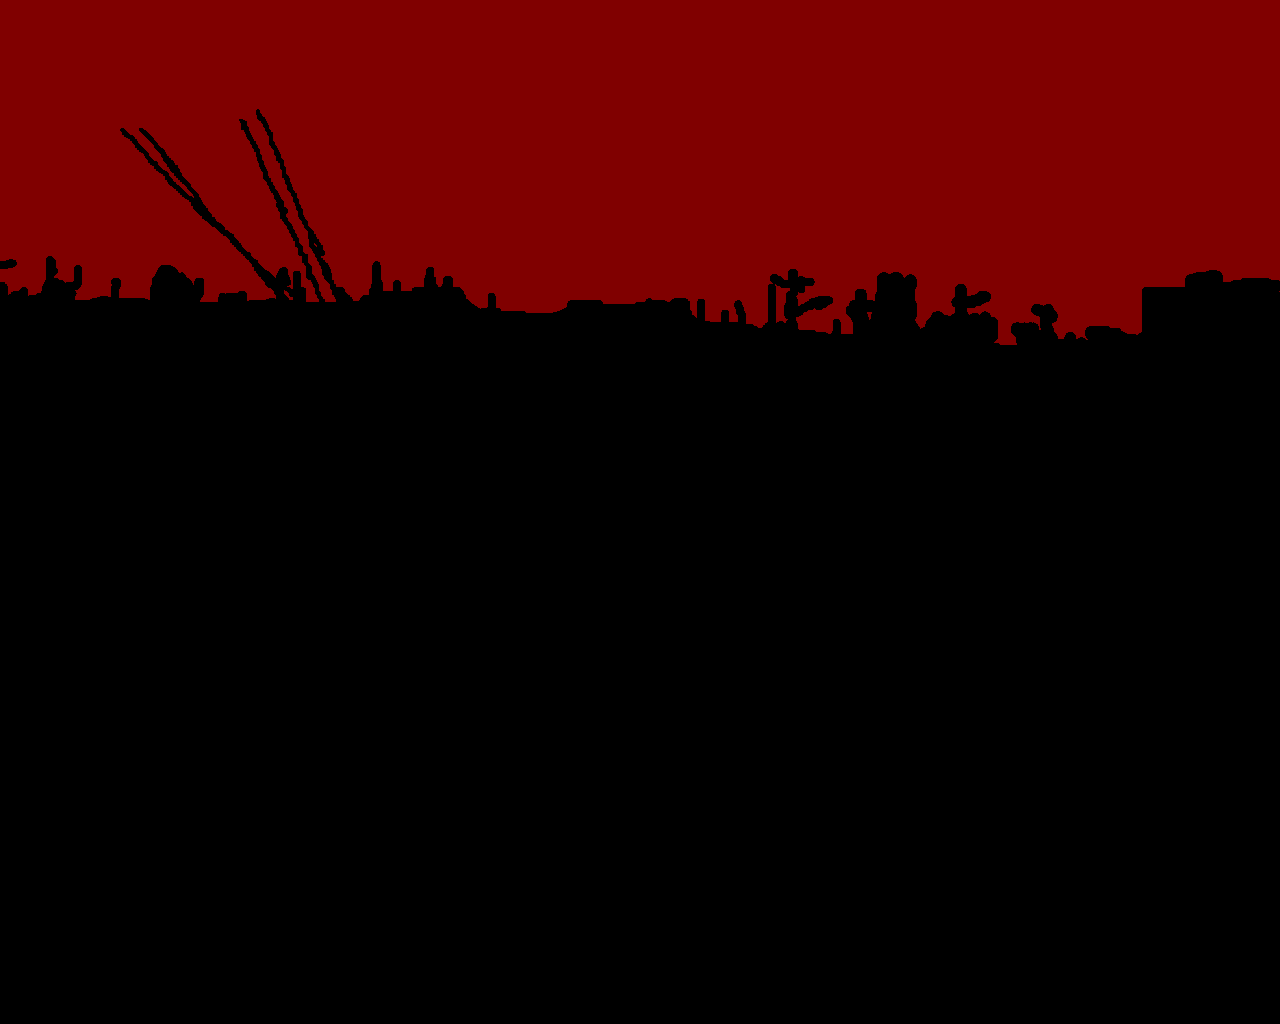Sky: (1, 1, 1279, 345)
